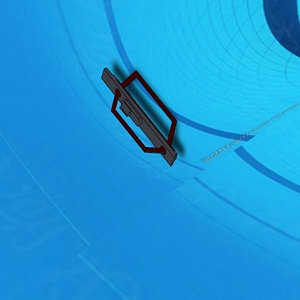submarine: (100, 66, 183, 165)
